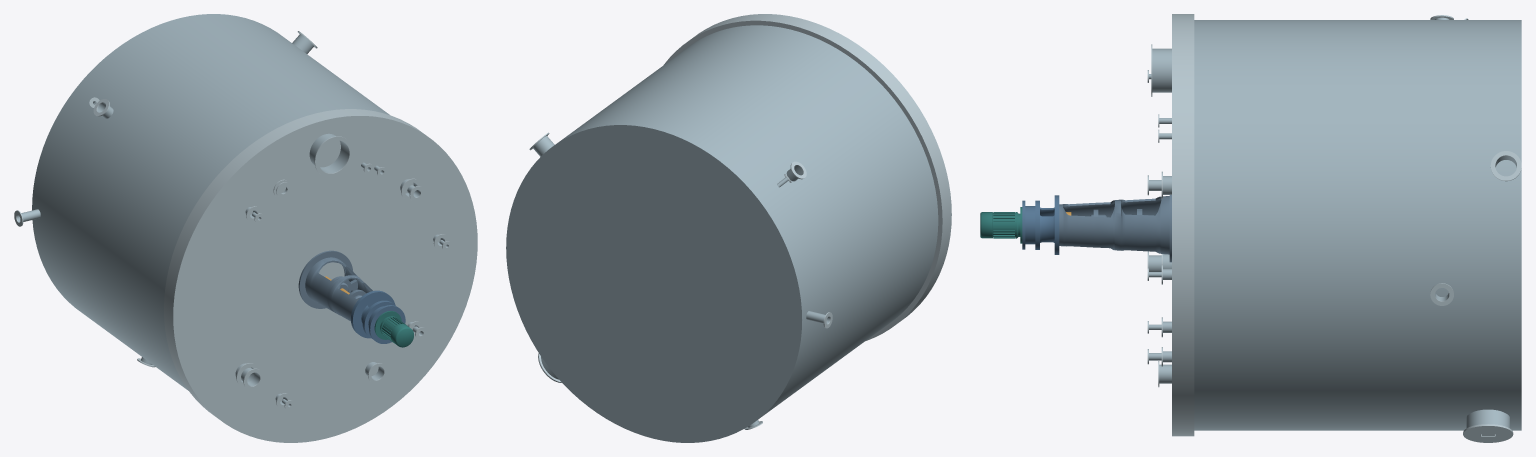
The picture shows the model from 3 angles, left to right: view 1: azimuth 30°, elevation 25°; view 2: azimuth 150°, elevation 25°; view 3: azimuth 270°, elevation 25°; orthographic projection. The views are drawn at different scales.
Visible parts, largest first — view 1: Tank_cover_lid, Tank_shell, 06_Tapered_window_frame_with_bored_seats, 01_Motor, 06_Frame_foot, 02_Base_flange_top, 接口_g接管, 接口_g法兰, 02_Upper_mount_flange; view 2: Tank_flat_bottom, Tank_shell, Tank_cover_lid; view 3: Tank_shell, Tank_cover_lid, 06_Tapered_window_frame_with_bored_seats, 01_Motor, 接口_g接管, 接口_t_人孔盖, 接口_t接管.
Part boxes in pixels (<box>): Tank_cover_lid: <box>164,109,477,442</box>; Tank_shell: <box>32,14,389,390</box>; 06_Tapered_window_frame_with_bored_seats: <box>305,257,372,321</box>; 01_Motor: <box>374,311,413,347</box>; 06_Frame_foot: <box>298,250,353,308</box>; 02_Base_flange_top: <box>352,291,395,338</box>; 接口_g接管: <box>309,133,348,173</box>; 接口_g法兰: <box>314,136,353,177</box>; 02_Upper_mount_flange: <box>369,305,405,343</box>; Tank_flat_bottom: <box>507,126,801,441</box>; Tank_shell: <box>506,25,938,442</box>; Tank_cover_lid: <box>664,14,951,340</box>; Tank_shell: <box>1194,20,1521,430</box>; Tank_cover_lid: <box>1172,14,1194,436</box>; 06_Tapered_window_frame_with_bored_seats: <box>1059,196,1169,254</box>; 01_Motor: <box>980,207,1022,243</box>; 接口_g接管: <box>1152,48,1171,92</box>; 接口_t_人孔盖: <box>1463,425,1513,442</box>; 接口_t接管: <box>1466,409,1509,428</box>.
Size of the model in its own units: 6.5 by 6.07 by 7.78.
